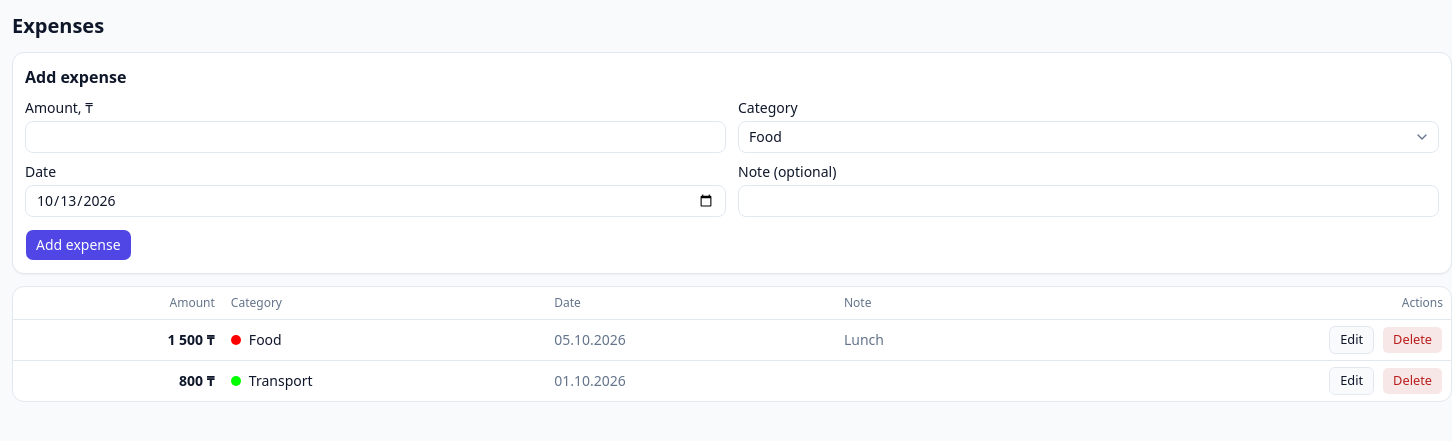
ExpensesPage › rejects a empty amount inline without a request
This screenshot has width=1452, height=441.
Expected: the table is shown, [13, 287, 1451, 400]
Click the button "Add expense".
click(78, 245)  # box [25, 229, 132, 261]
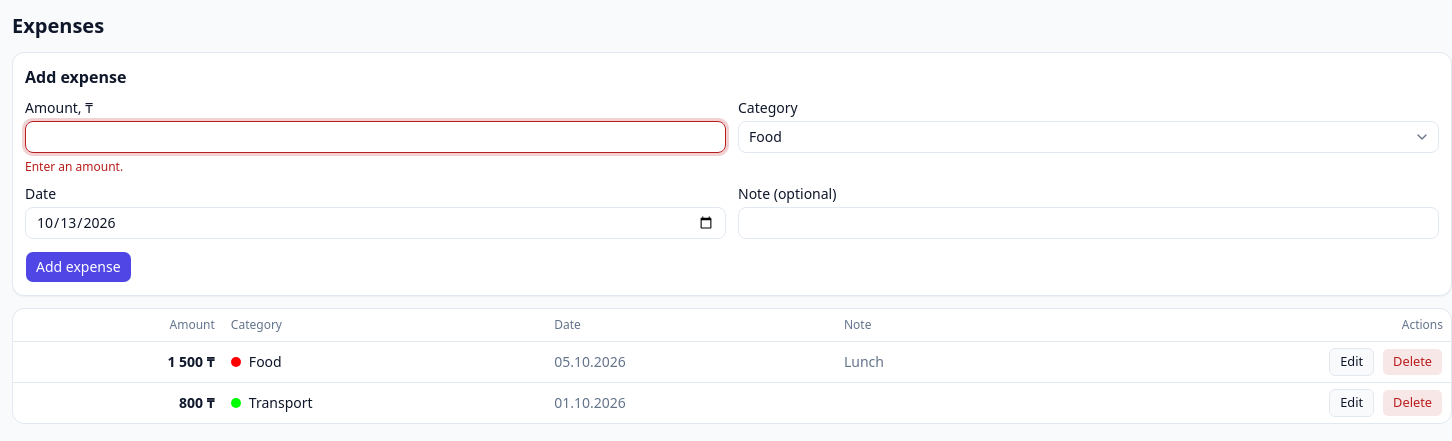
Expected: the text "Enter an amount." is shown, [25, 158, 123, 175]
